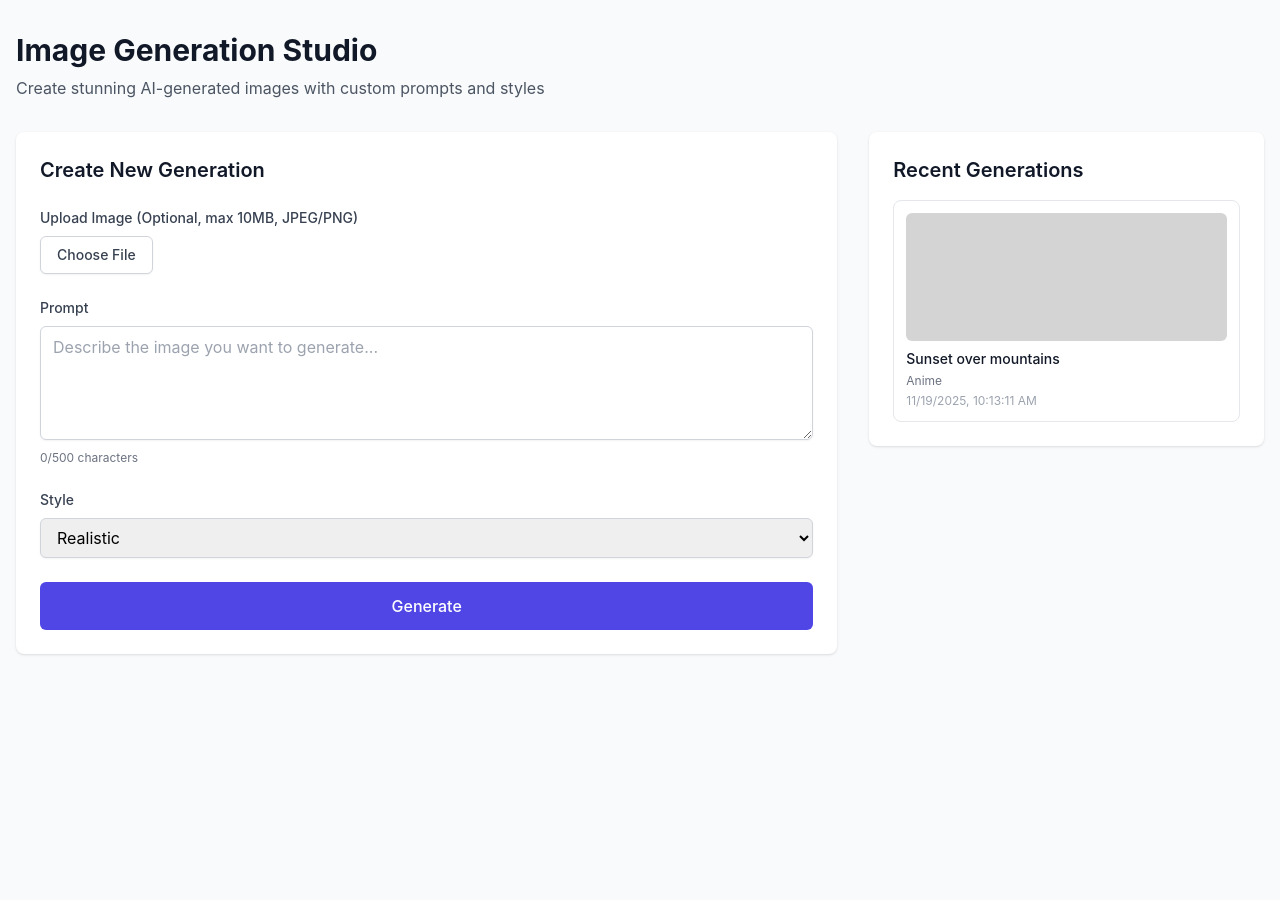
Test: GenerationStudio Component › should restore generation when clicking on past generation
Expected: the text "Sunset over mountains" is shown, x1=906 y1=350 x2=1060 y2=367
Step 1. Click the text "Sunset over mountains" → point(1067, 311), box x1=893 y1=200 x2=1240 y2=422
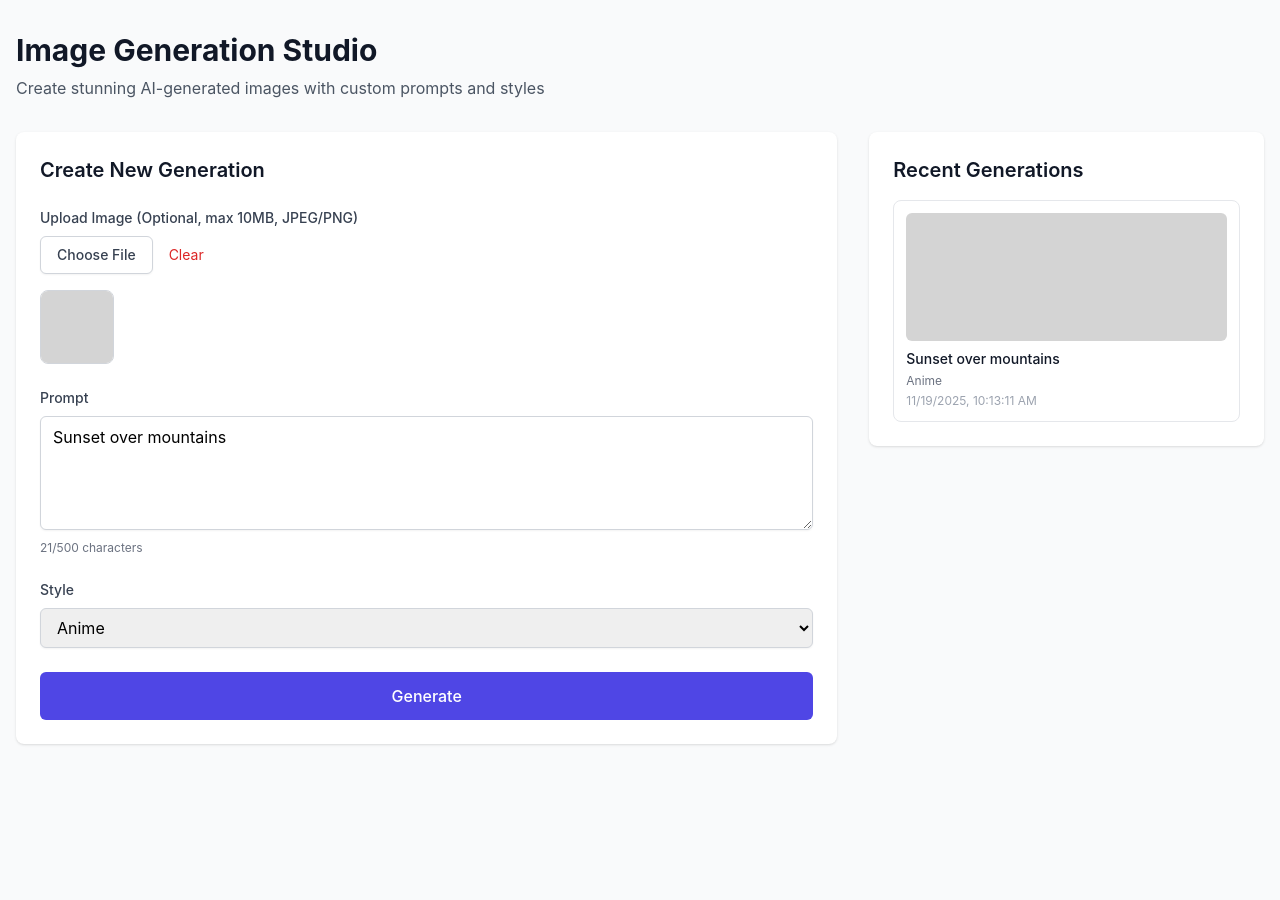
Expected: the text box labelled "Prompt" holds "Sunset over mountains", x1=40 y1=416 x2=813 y2=530
Expected: the dropdown labelled "Style" shows "Anime", x1=40 y1=608 x2=813 y2=648
